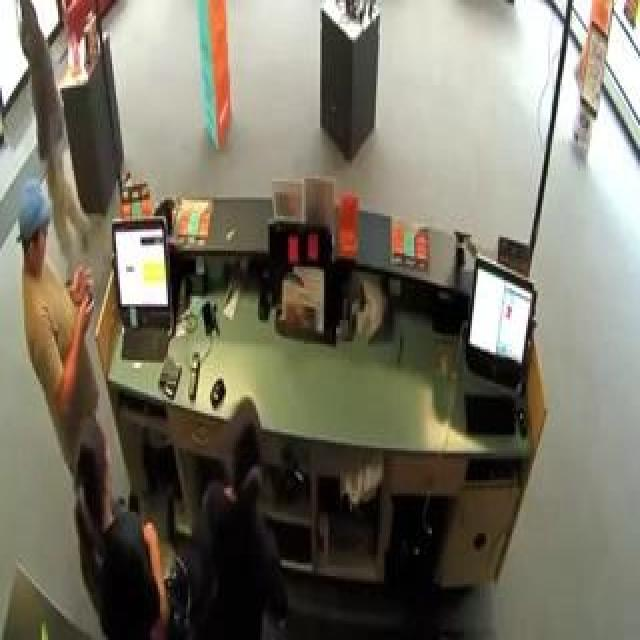high_con: (3, 0, 59, 66)
low_con: (6, 174, 54, 282)
no_con: (70, 417, 116, 526), (222, 401, 263, 514)
